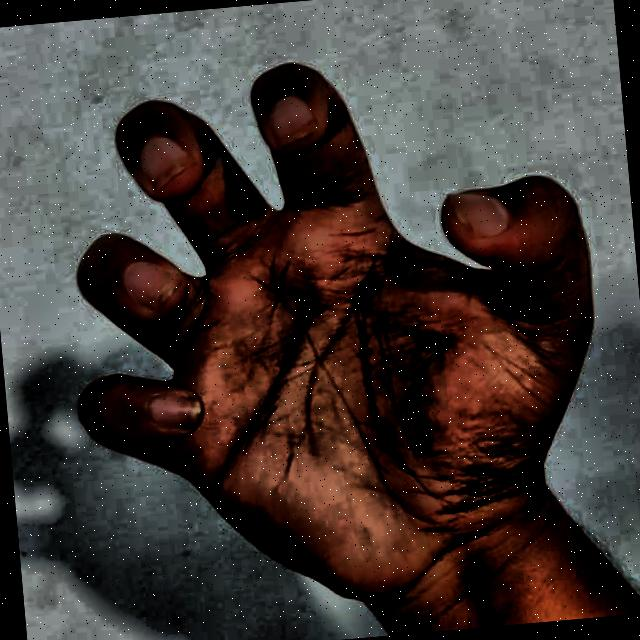Ja: (26, 0, 633, 640)
